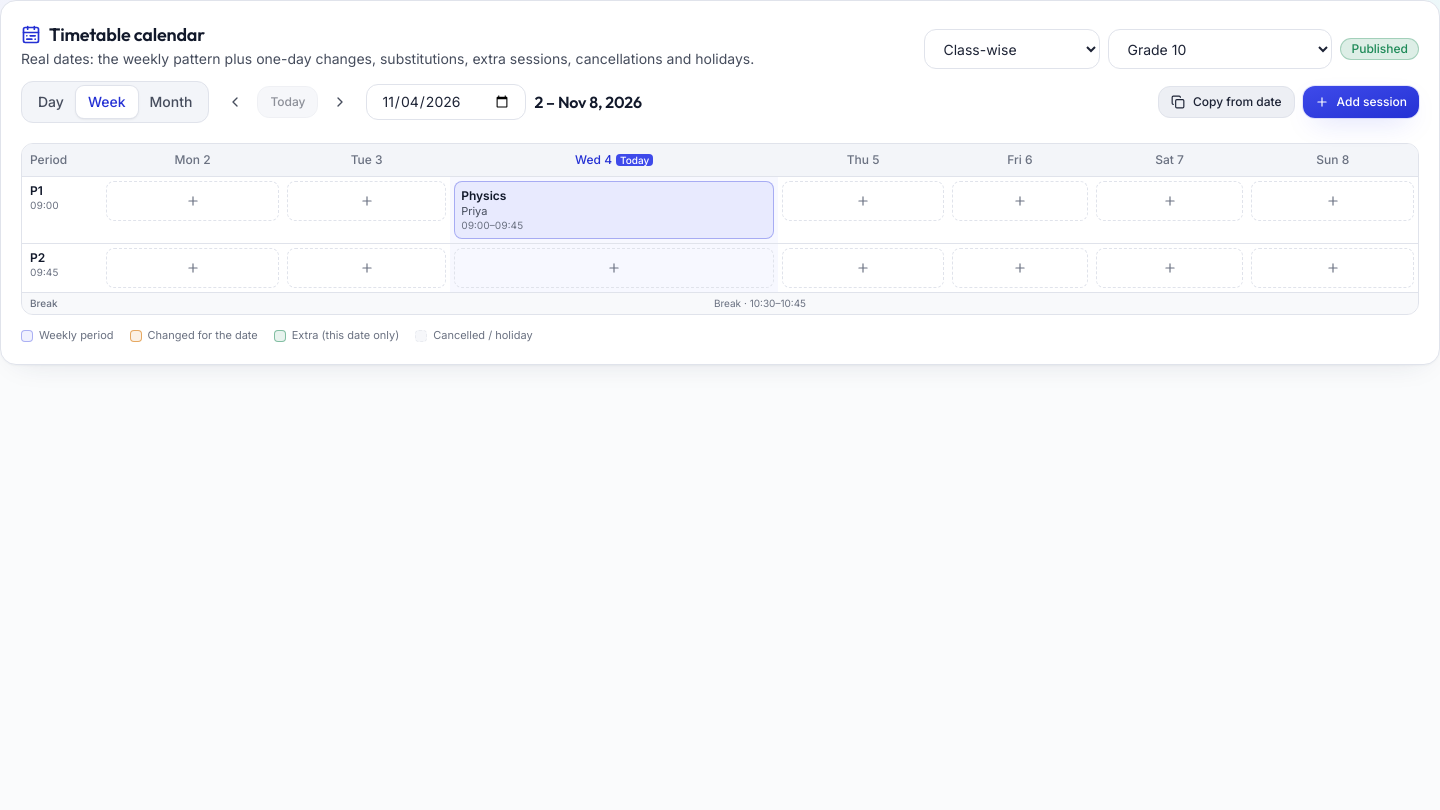
Test: DatedCalendarPanel › opens a session for the date and lists every conflict from a 409
This screenshot has width=1440, height=810.
Click the button "Physics Priya 09:00–09:45": (484, 196) [454,181,774,239]
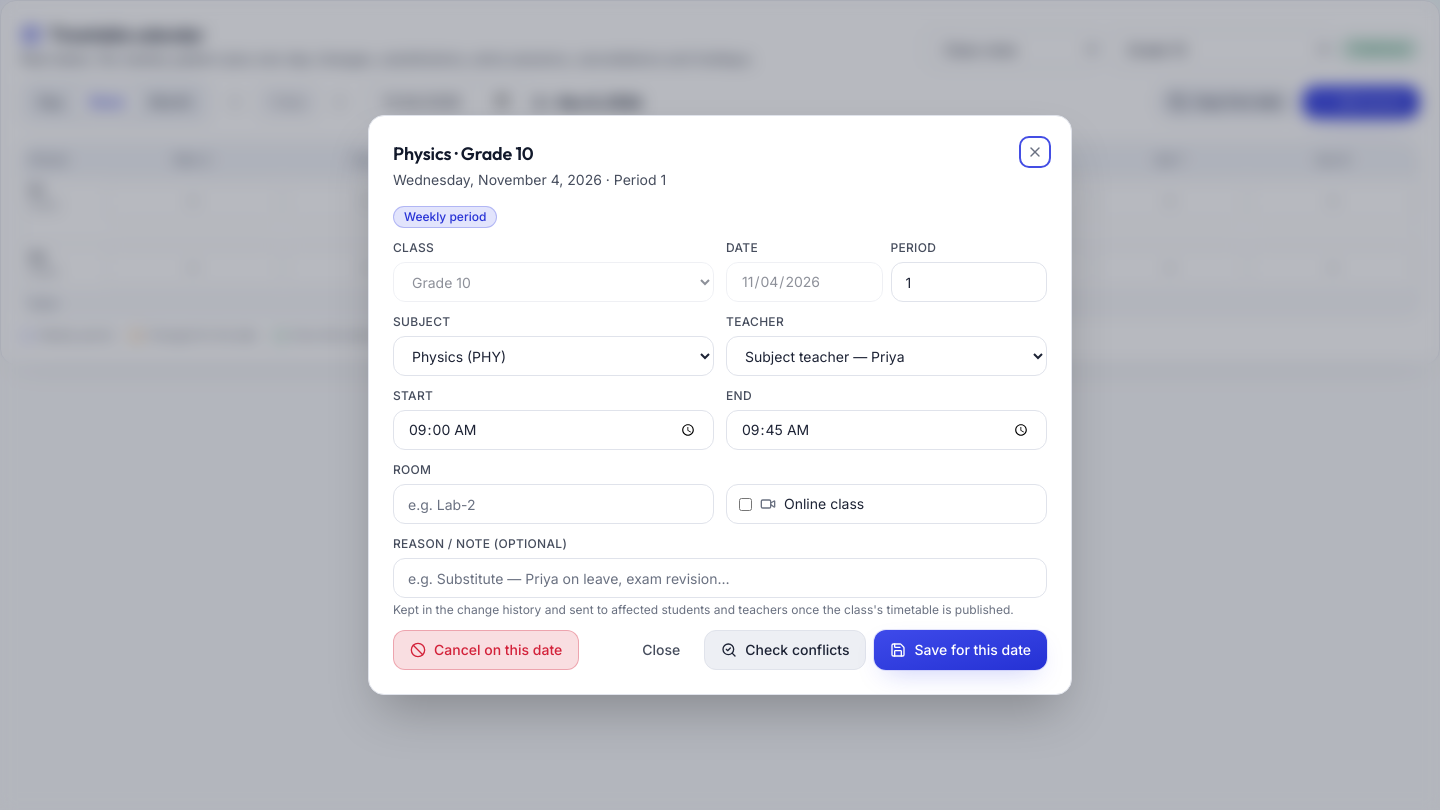
Result: the text "Weekly period" is shown at [393,206,497,228]
Select "Kavya (substitute / other)" in the dropdown labelled "Teacher": (886, 356) [726,336,1047,376]
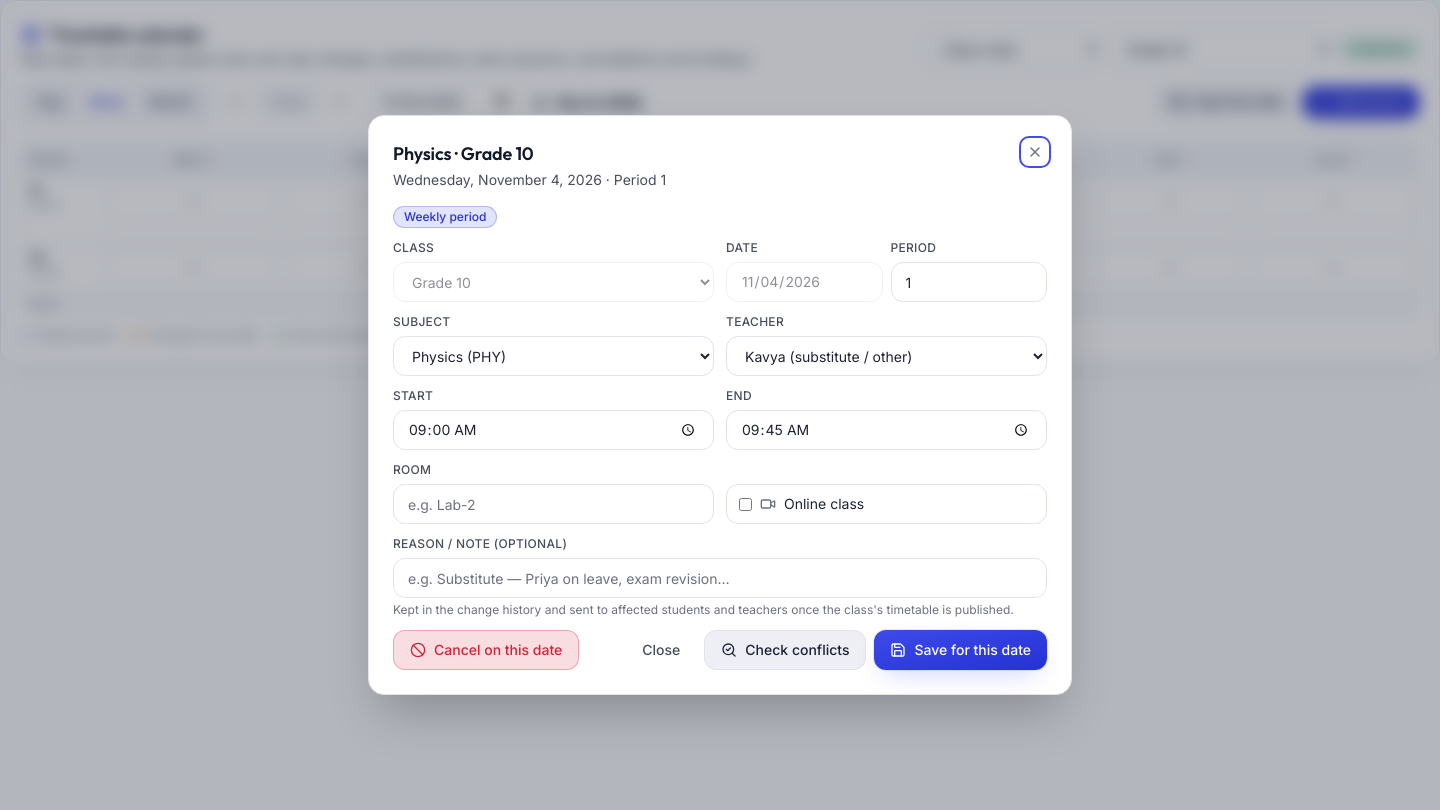
Click the button "Save for this date": (961, 650) [874,630,1047,670]
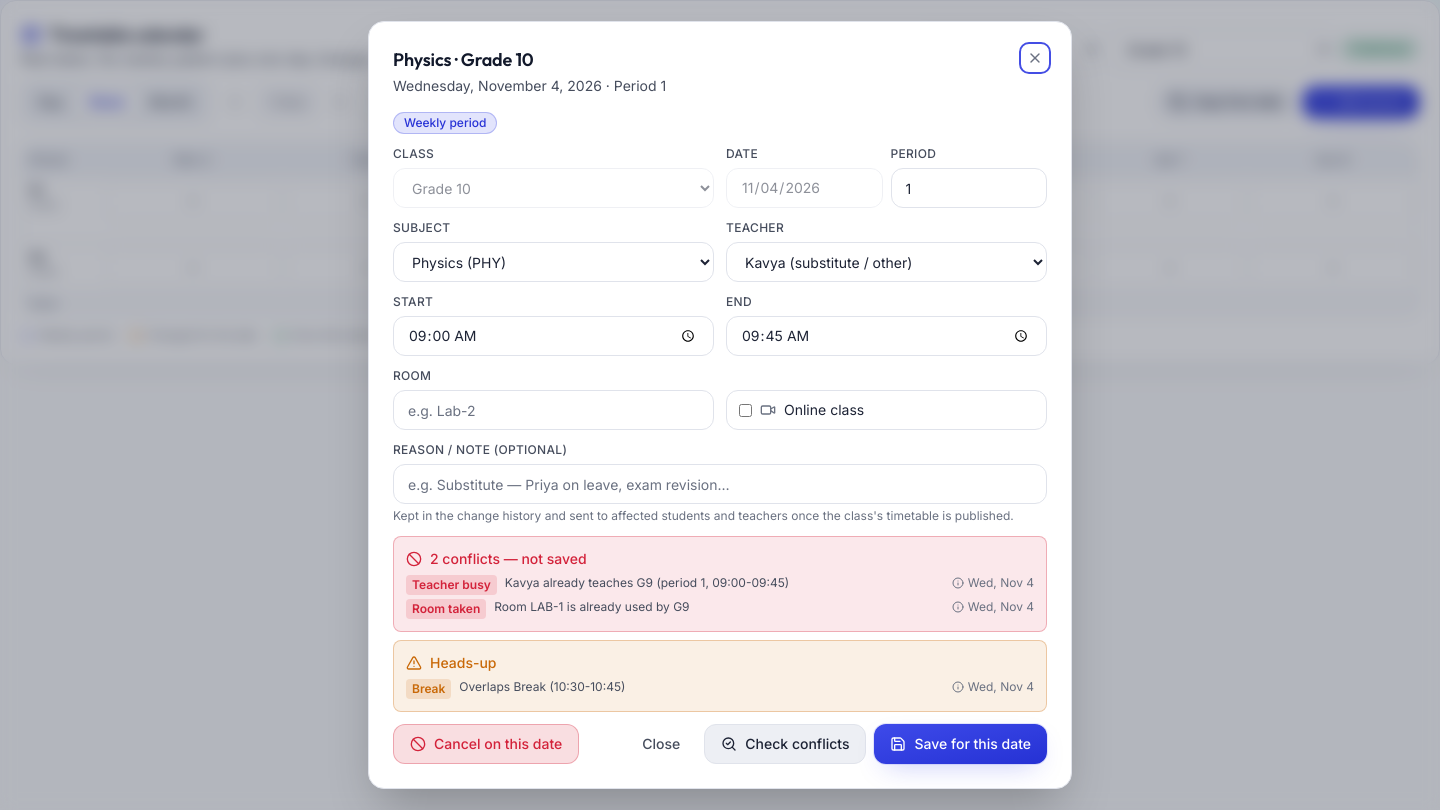
Result: the text "2 conflicts — not saved" is shown at [406,550,587,567]
Result: the text "Kavya already teaches G9 (period 1, 09:00-09:45)" is shown at [505,575,789,590]
Result: the text "Room LAB-1 is already used by G9" is shown at [494,599,690,614]
